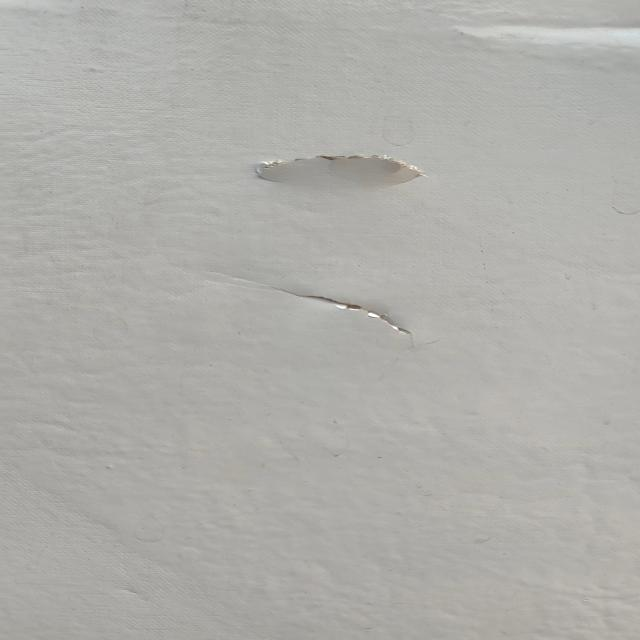Dents or Deformation: (437, 10, 640, 51)
Scratches: (195, 132, 472, 199), (229, 284, 451, 355)
